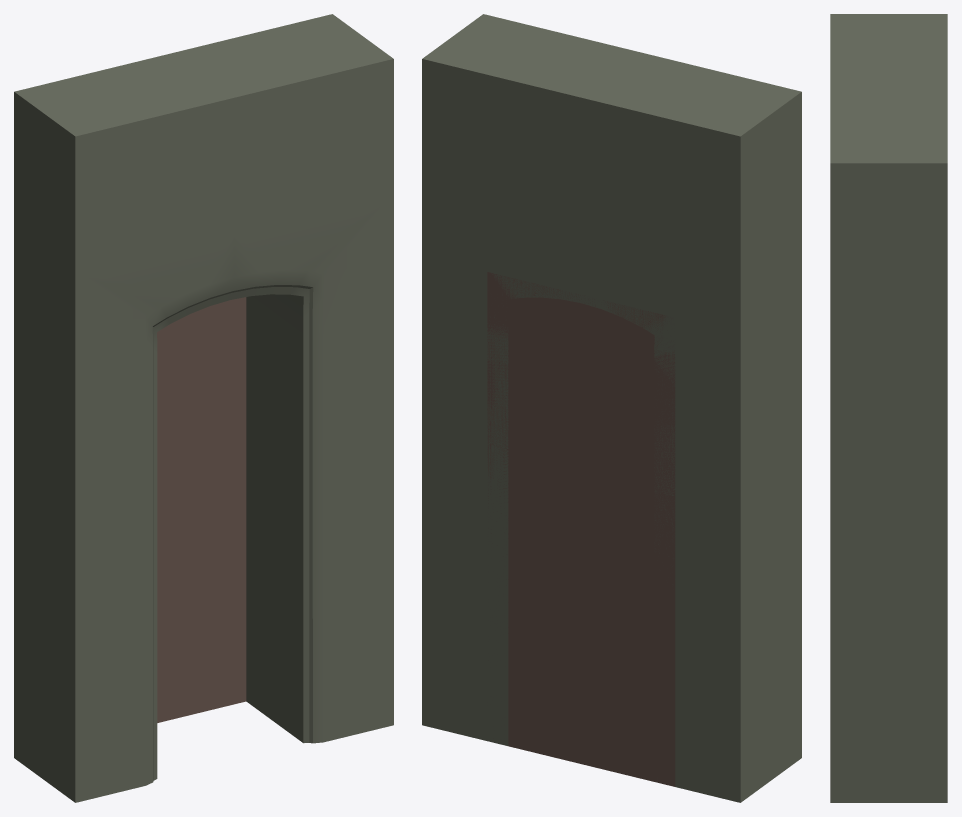
The model's file is SM_Build03_Wall_01.fbx.
The picture shows the model from 3 angles, left to right: view 1: azimuth 30°, elevation 25°; view 2: azimuth 150°, elevation 25°; view 3: azimuth 270°, elevation 25°; orthographic projection. The views are drawn at different scales.
Parts seen in each view (by area): view 1: SM_Build03_Wall_01; view 2: SM_Build03_Wall_01; view 3: SM_Build03_Wall_01.
Boxes of the visible parts, x1,y1,x2,y2 form: SM_Build03_Wall_01: [14, 14, 393, 802]; SM_Build03_Wall_01: [422, 14, 801, 802]; SM_Build03_Wall_01: [830, 14, 947, 802].
Size of the model in its own units: 300 by 600 by 100.
